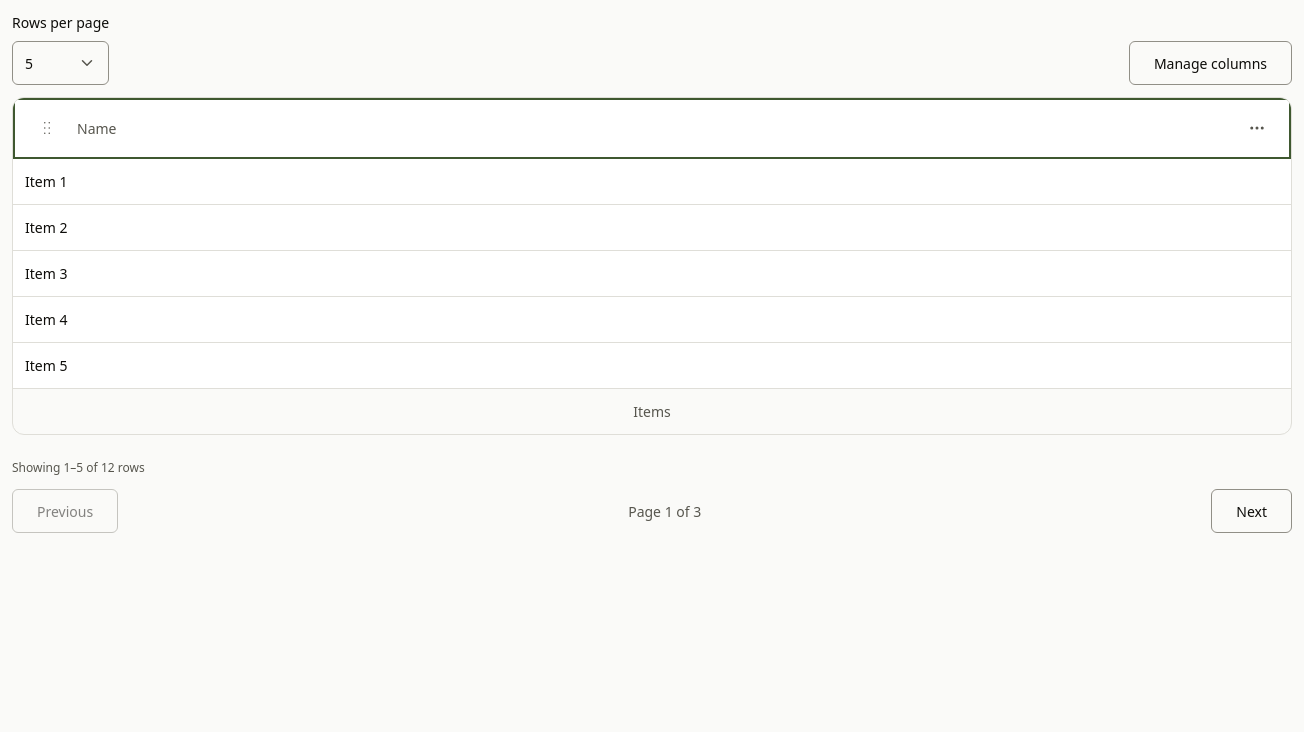
Test: DataTable pagination › paginates actual rows and handles a partial final page
Expected: the text "Item 1" is shown, [13,159,1291,205]
Expected: the text "Item 6" is not shown
Click the button "Next".
click(1252, 511)  # box [1211,489,1292,533]
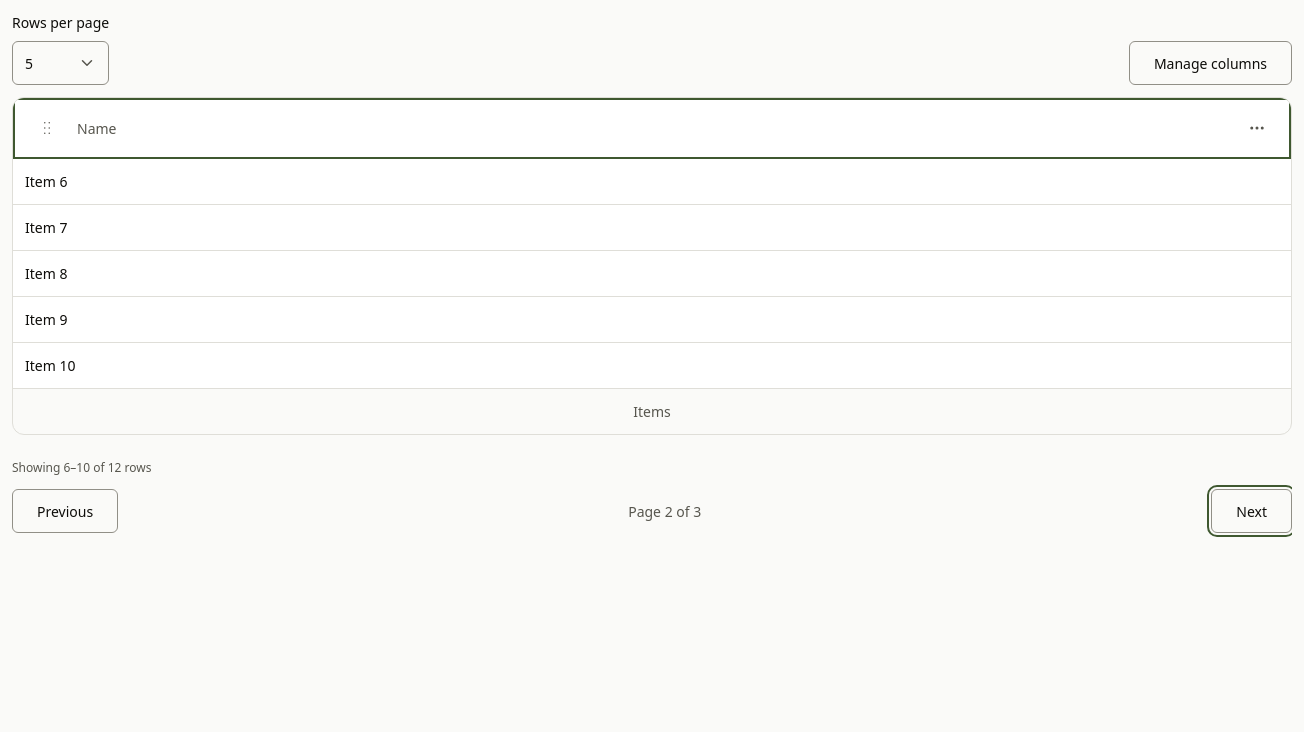
Expected: the text "Item 6" is shown, [13,159,1291,205]
Click the button "Next".
click(1252, 511)  # box [1211,489,1292,533]
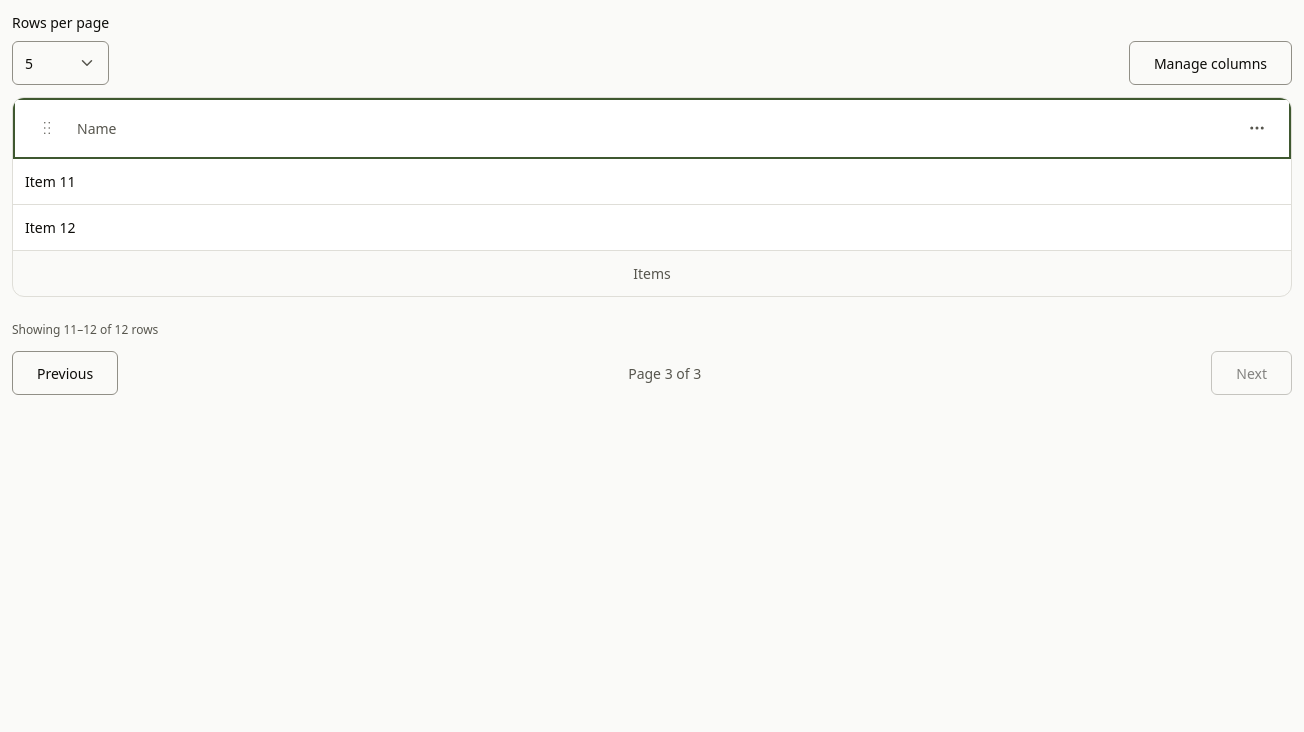
Expected: the text "Showing 11–12 of 12 rows" is shown, [12,321,158,338]
Expected: the button "Next" is disabled, [1211,351,1292,395]
